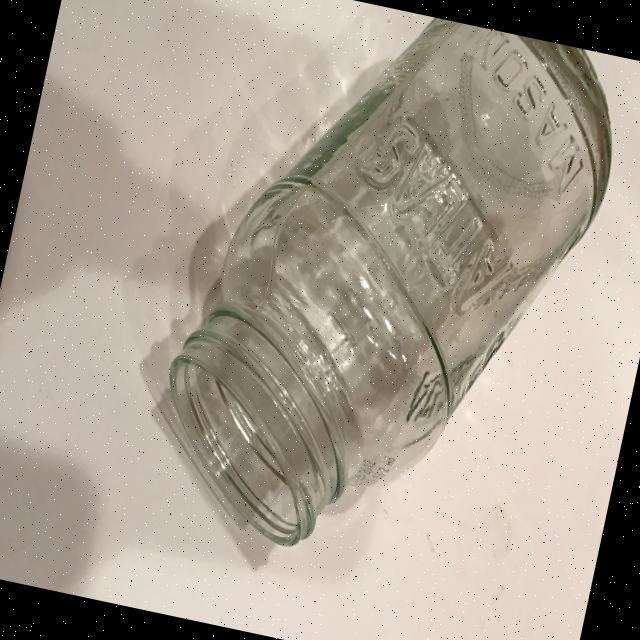glass: (135, 0, 634, 596)
